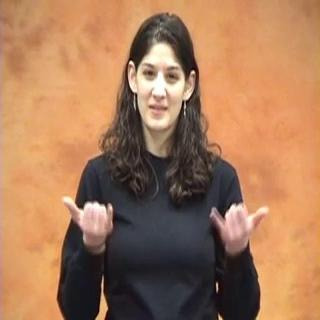now: (54, 190, 275, 253)
